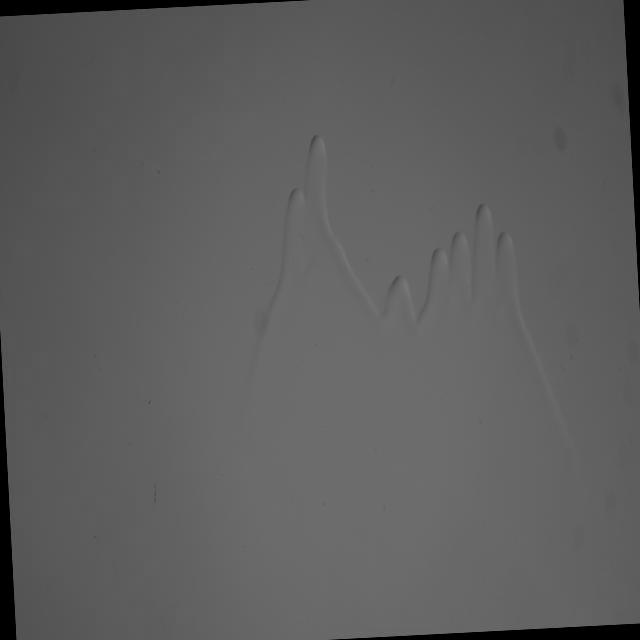paint drips: (228, 115, 582, 492)
